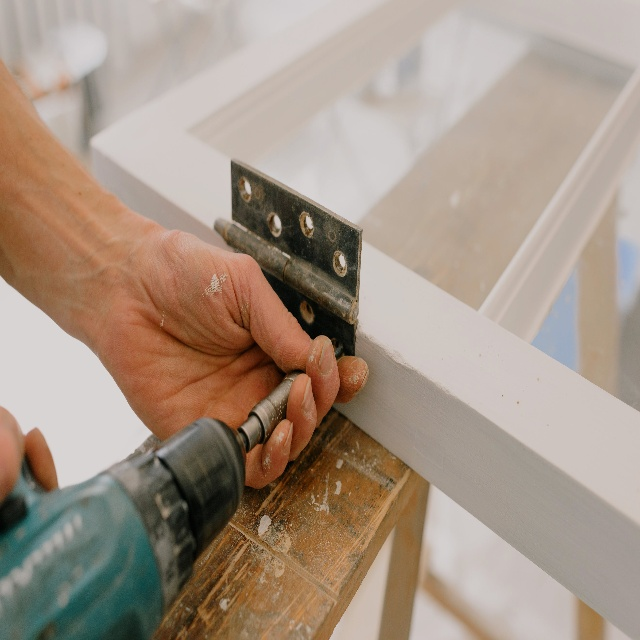Sin_guantes: (92, 219, 368, 491)
